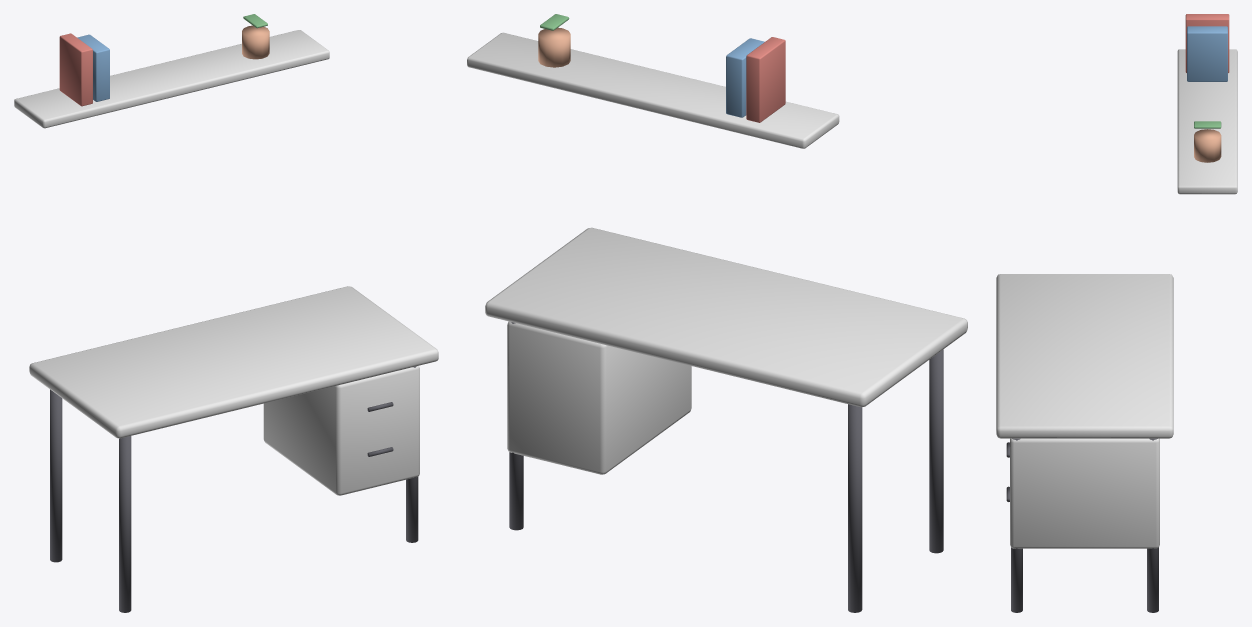
File: Modular_Desk.fbx
3 views of the same model, side by side, from view 1: azimuth 30°, elevation 25°; view 2: azimuth 150°, elevation 25°; view 3: azimuth 270°, elevation 25° (orthographic). The views are drawn at different scales.
Parts seen in each view (by area): view 1: Modular_Desk; view 2: Modular_Desk; view 3: Modular_Desk.
Part boxes in pixels (x1=…): Modular_Desk: x1=14, y1=14, x2=438, y2=612; Modular_Desk: x1=467, y1=14, x2=967, y2=612; Modular_Desk: x1=996, y1=14, x2=1237, y2=612.
Size of the model in its own units: 135 by 194 by 88.5.
